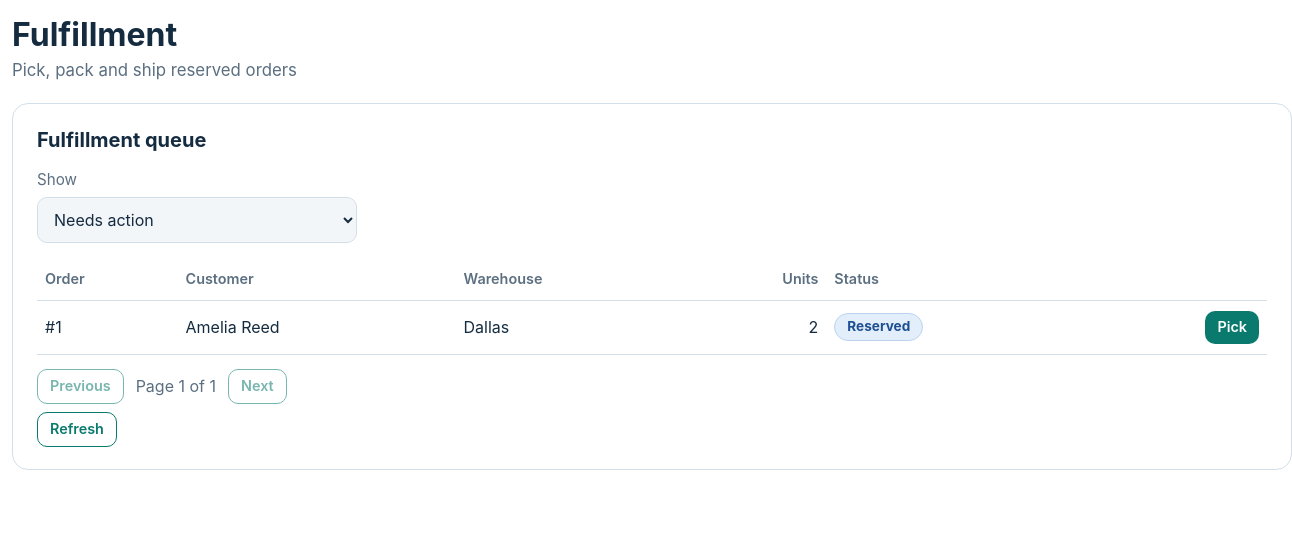
FulfillmentPage queue › refreshes the queue on request, picking up changes made by other people
Expected: the text "#1" is shown, left=37, top=300, right=178, bottom=354
Click the button "Refresh".
click(77, 429)  # box left=37, top=412, right=117, bottom=447
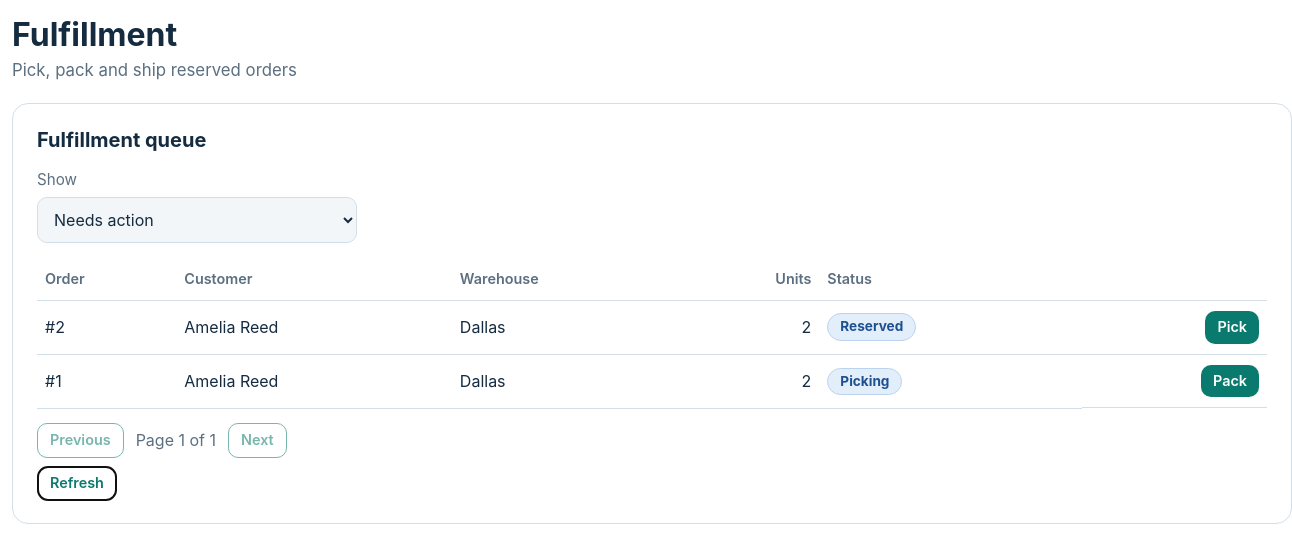
Expected: the text "#2" is shown, left=37, top=300, right=176, bottom=354
Expected: the text "Picking" is shown, left=827, top=368, right=902, bottom=395
